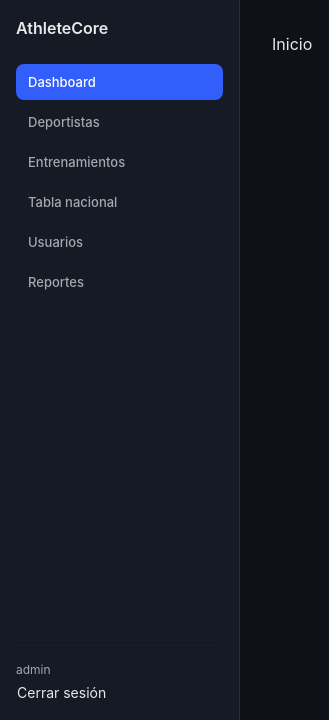
Test case: AppShell — navegación del módulo de chequeos › ADMIN ve 'Tabla nacional' y navega a /tabla-nacional
The width and height of the screenshot is (329, 720).
Click the link "Tabla nacional" at (73, 202), box [28, 194, 117, 210]
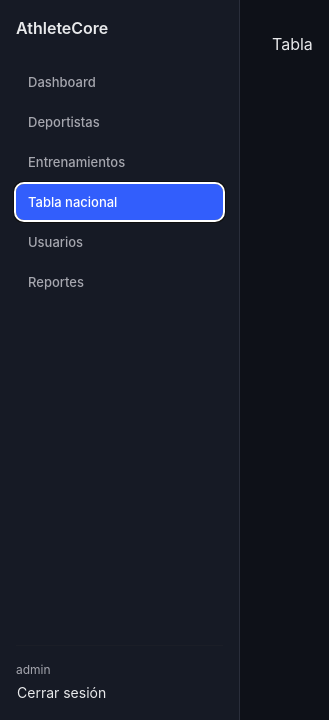
Expected: the text "Tabla" is shown, [272, 34, 313, 54]
